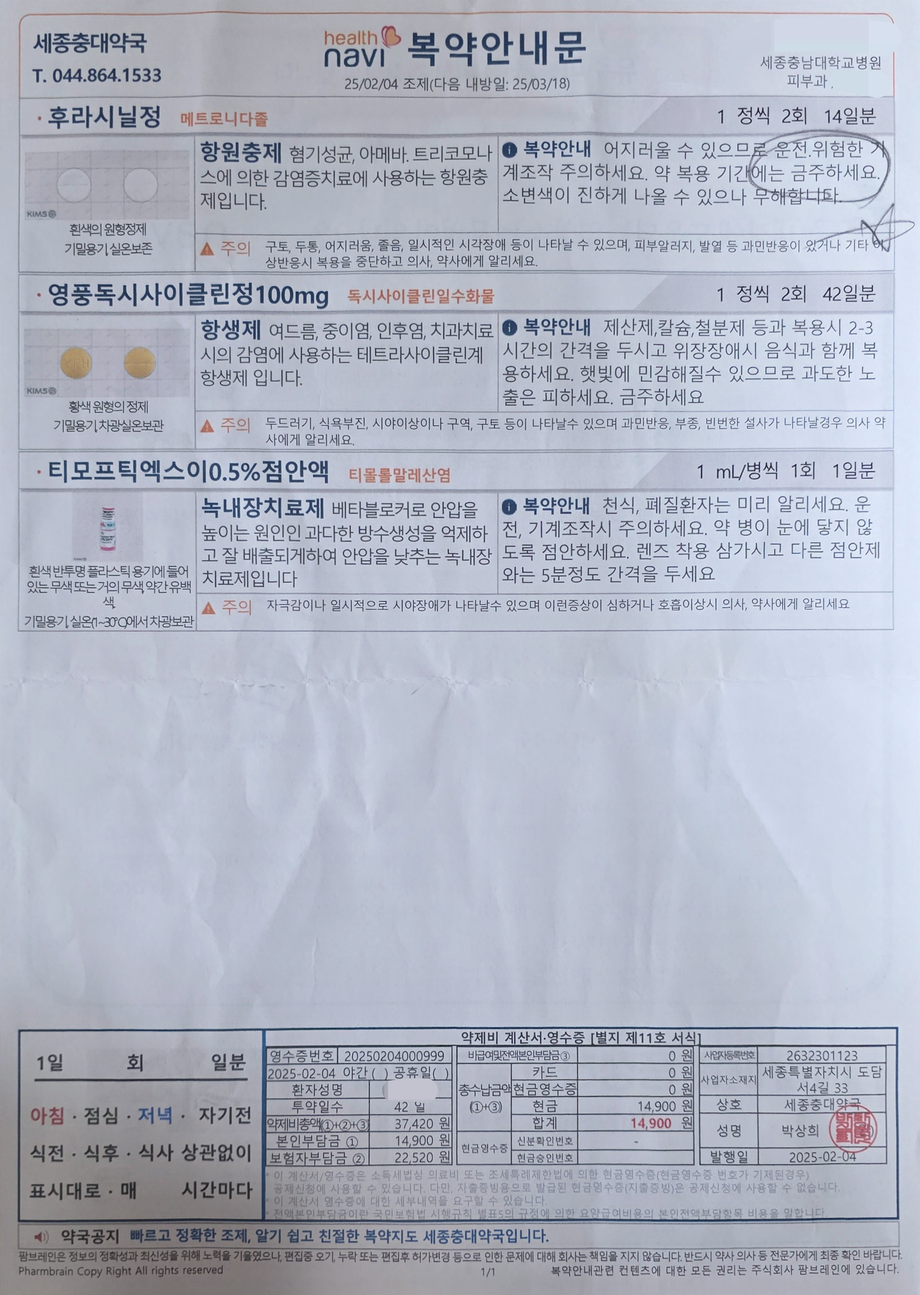row: (15, 1021, 898, 1217), (19, 14, 895, 99), (498, 491, 891, 594), (496, 136, 894, 236), (502, 312, 892, 414), (15, 96, 893, 138), (17, 451, 893, 493), (14, 273, 893, 314), (194, 309, 501, 414), (196, 491, 496, 593), (192, 232, 894, 272), (193, 140, 496, 230), (194, 414, 891, 450), (196, 592, 892, 628), (21, 560, 193, 636), (42, 397, 174, 439), (59, 217, 162, 265)
